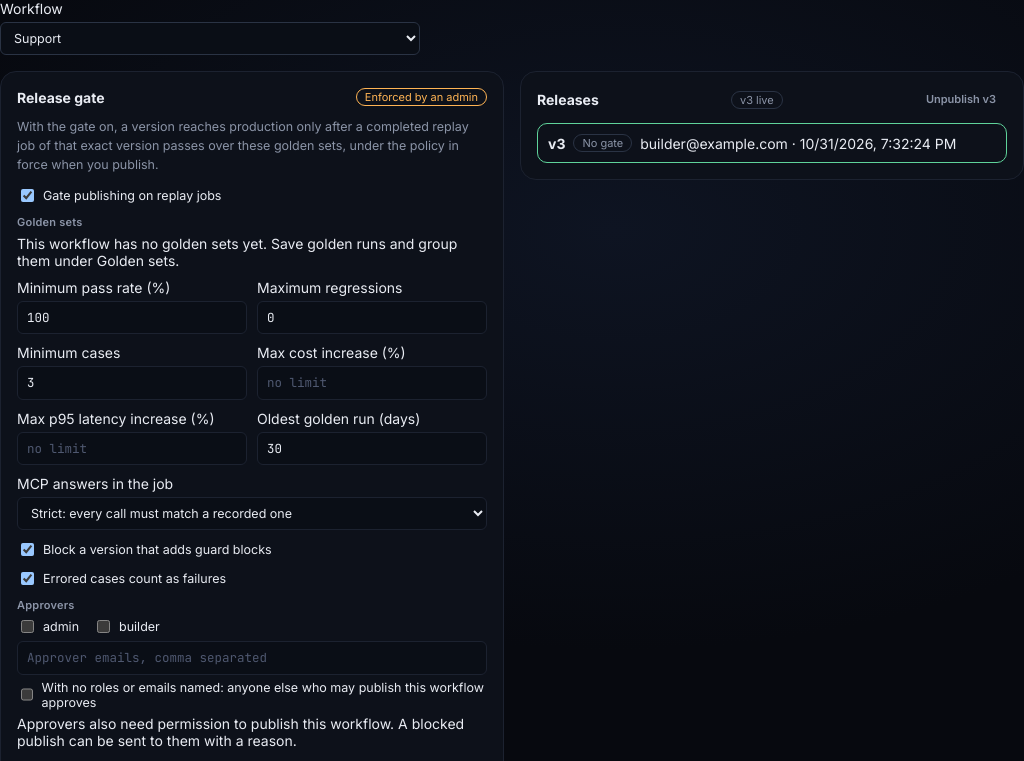
Test: Unpublish in the Releases card › unpublishes from the card and lists the entry; rollback is offered on releases, not on the unpublish entry
The width and height of the screenshot is (1024, 761).
Click the button "Unpublish v3". click: click(961, 100)
box: 915,88 -> 1007,111
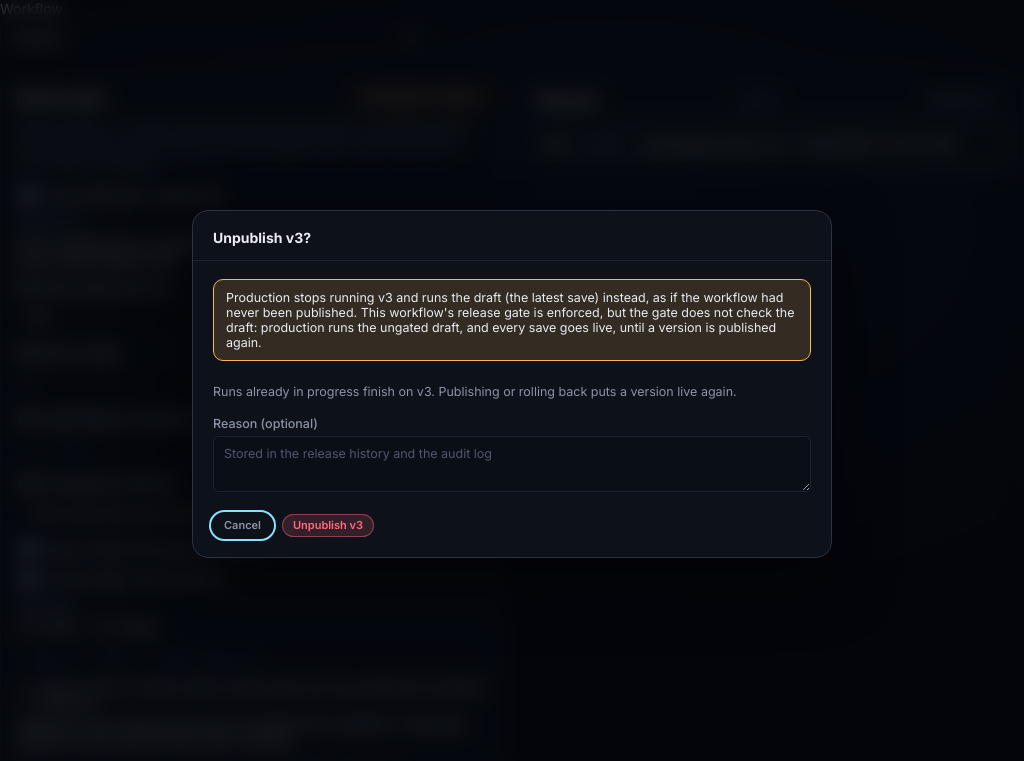
Expected: the text "production runs the ungated draft" is shown, 226,290 -> 794,350
Click the button "Unpublish v3" below "Reason (optional)". click: click(328, 525)
box: 282,514 -> 374,537
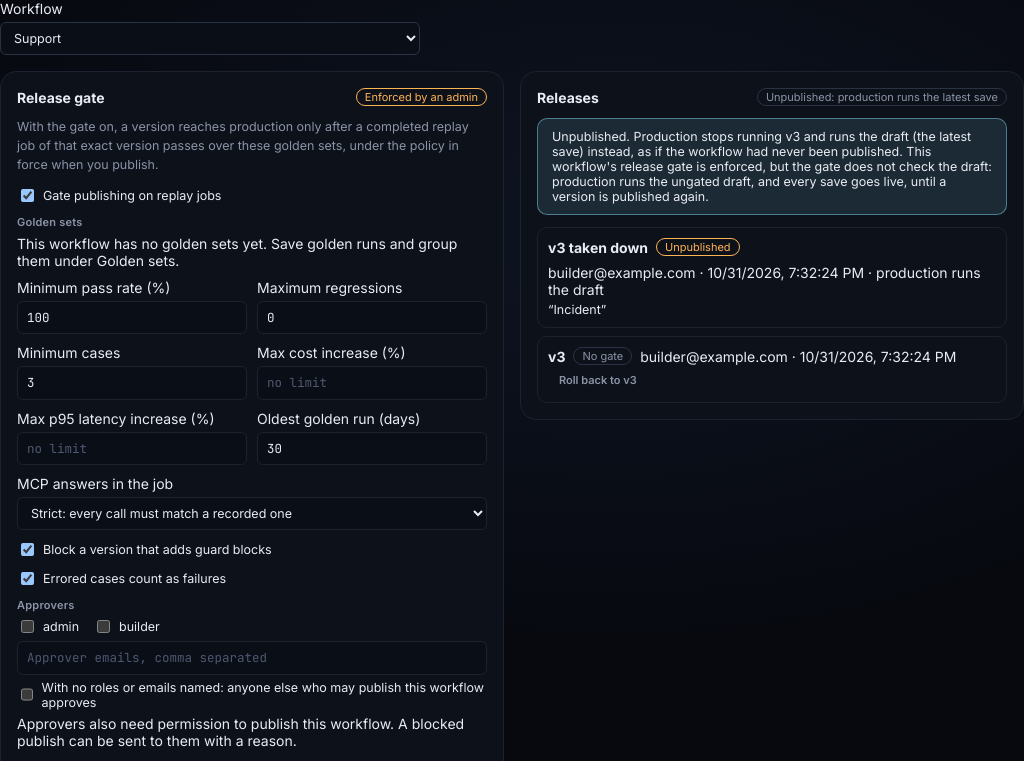
Expected: the text "Unpublished: production runs the latest save" is shown, 757,88 -> 1007,106
Expected: the message shows "ungated draft", 552,129 -> 992,204
Expected: the text "v3 taken down" is shown, 548,238 -> 648,256
